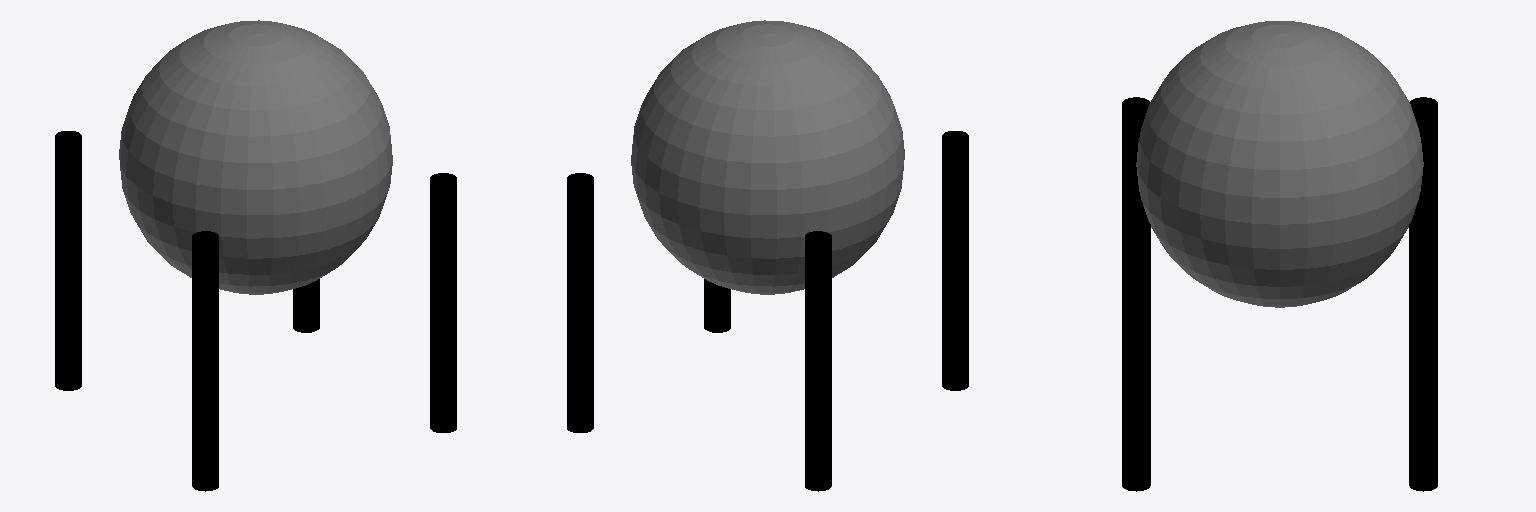
URDF robot description (drone_with_legs):
<?xml version="1.0" ?>
<robot name="drone_with_legs">
  <!-- Main drone body -->
  <link name="base_link">
    <inertial>
      <mass value="1.0" />
      <origin xyz="0 0 0" />
      <inertia ixx="0.01" ixy="0" ixz="0" iyy="0.01" iyz="0" izz="0.01" />
    </inertial>
    <visual>
      <geometry>
        <sphere radius="0.2" />
      </geometry>
      <material name="grey">
        <color rgba="0.5 0.5 0.5 1"/>
      </material>
    </visual>
    <collision>
      <geometry>
        <sphere radius="0.2" />
      </geometry>
    </collision>
  </link>

  <!-- Leg 1 -->
  <joint name="leg_1_joint" type="fixed">
    <origin xyz="0.2 0.2 -0.2" rpy="0 0 0" />
    <parent link="base_link" />
    <child link="leg_1" />
  </joint>
  <link name="leg_1">
    <visual>
      <geometry>
        <cylinder radius="0.02" length="0.4" />
      </geometry>
      <material name="black">
        <color rgba="0 0 0 1"/>
      </material>
    </visual>
    <collision>
      <geometry>
        <cylinder radius="0.02" length="0.4" />
      </geometry>
    </collision>
  </link>

  <!-- Leg 2 -->
  <joint name="leg_2_joint" type="fixed">
    <origin xyz="-0.2 0.2 -0.2" rpy="0 0 0" />
    <parent link="base_link" />
    <child link="leg_2" />
  </joint>
  <link name="leg_2">
    <visual>
      <geometry>
        <cylinder radius="0.02" length="0.4" />
      </geometry>
      <material name="black">
        <color rgba="0 0 0 1"/>
      </material>
    </visual>
    <collision>
      <geometry>
        <cylinder radius="0.02" length="0.4" />
      </geometry>
    </collision>
  </link>

  <!-- Leg 3 -->
  <joint name="leg_3_joint" type="fixed">
    <origin xyz="0.2 -0.2 -0.2" rpy="0 0 0" />
    <parent link="base_link" />
    <child link="leg_3" />
  </joint>
  <link name="leg_3">
    <visual>
      <geometry>
        <cylinder radius="0.02" length="0.4" />
      </geometry>
      <material name="black">
        <color rgba="0 0 0 1"/>
      </material>
    </visual>
    <collision>
      <geometry>
        <cylinder radius="0.02" length="0.4" />
      </geometry>
    </collision>
  </link>

  <!-- Leg 4 -->
  <joint name="leg_4_joint" type="fixed">
    <origin xyz="-0.2 -0.2 -0.2" rpy="0 0 0" />
    <parent link="base_link" />
    <child link="leg_4" />
  </joint>
  <link name="leg_4">
    <visual>
      <geometry>
        <cylinder radius="0.02" length="0.4" />
      </geometry>
      <material name="black">
        <color rgba="0 0 0 1"/>
      </material>
    </visual>
    <collision>
      <geometry>
        <cylinder radius="0.02" length="0.4" />
      </geometry>
    </collision>
  </link>
</robot>

--- What the picture shows (computed from the rendered views, not written in the file) ---
Views: 3 orthographic renders of the robot side by side, from view 1: azimuth 30°, elevation 25°; view 2: azimuth 150°, elevation 25°; view 3: azimuth 270°, elevation 25°.
Robot: drone_with_legs — 5 links, 4 joints (4 fixed); root link base_link; default pose: all joints at 0.
Visible links, largest first — view 1: base_link, leg_3, leg_2, leg_4, leg_1; view 2: base_link, leg_1, leg_2, leg_4, leg_3; view 3: base_link, leg_1, leg_3, leg_2, leg_4.
Boxes of the visible links, x1,y1,x2,y2 form: base_link: (119,20,392,294); leg_3: (430,173,456,432); leg_2: (55,131,81,390); leg_4: (192,231,218,491); leg_1: (293,279,319,332); base_link: (631,20,904,294); leg_1: (567,173,593,432); leg_2: (805,231,831,491); leg_4: (942,131,968,390); leg_3: (704,279,730,332); base_link: (1136,21,1423,307); leg_1: (1409,219,1437,491); leg_3: (1122,219,1150,491); leg_2: (1410,97,1437,222); leg_4: (1122,97,1149,222).
Bounding box of the posed robot: 0.44 × 0.44 × 0.6 m (x, y, z).
Geometry: primitives only (box / cylinder / sphere), no mesh files.